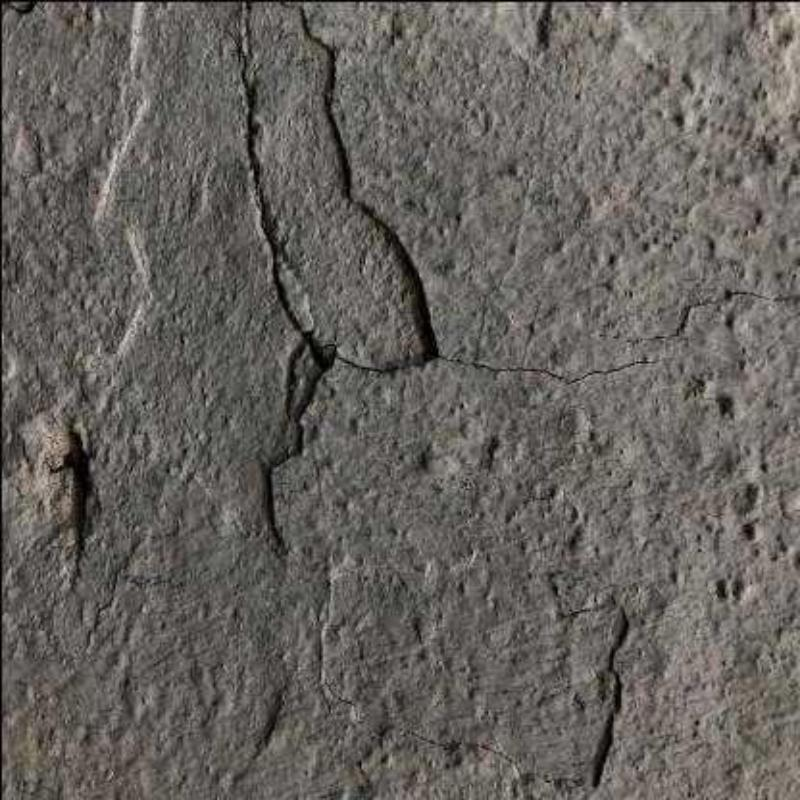crack: (230, 0, 798, 557), (50, 431, 98, 587), (477, 744, 554, 783), (402, 729, 448, 748)
